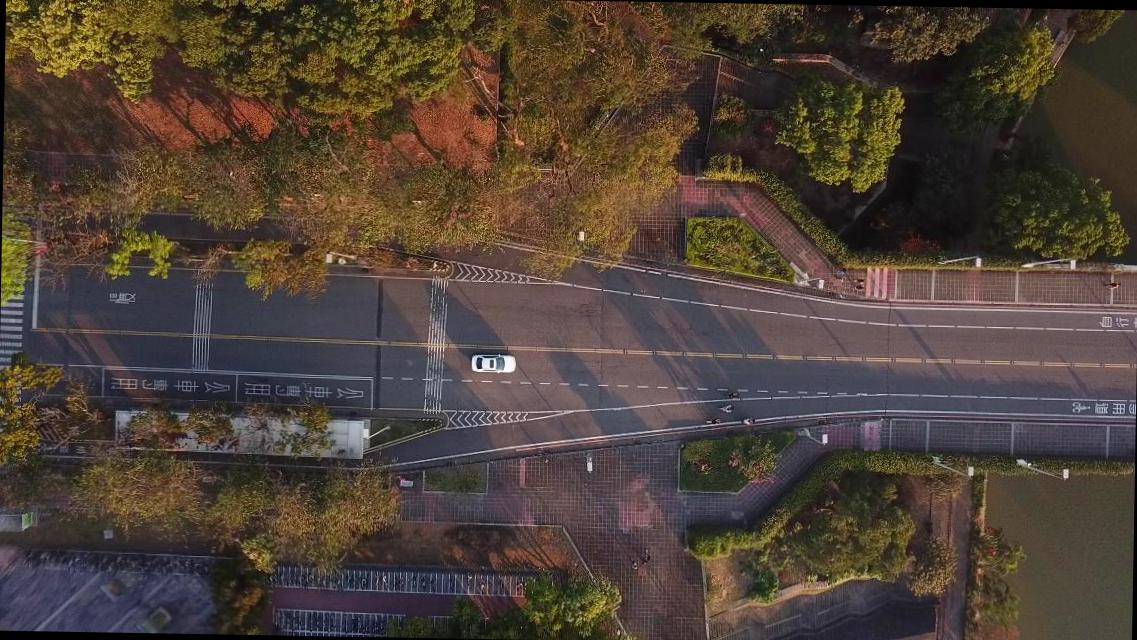vehicle: (470, 351, 516, 373)
